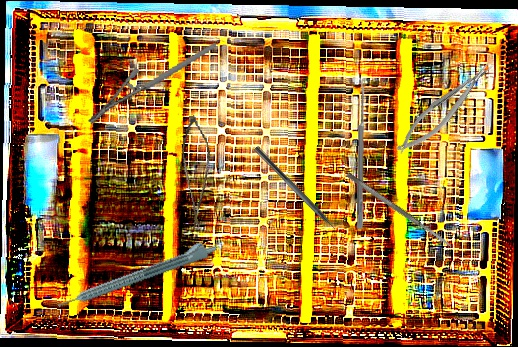Chopper: (248, 145, 345, 243)
Handpiece: (53, 235, 219, 312)
Micro Scissor: (168, 113, 227, 232)
Needle Holder: (77, 42, 228, 126), (389, 57, 502, 160)
Spatula Surgical: (345, 171, 454, 250)
Surgical Spoon: (356, 77, 367, 230)
